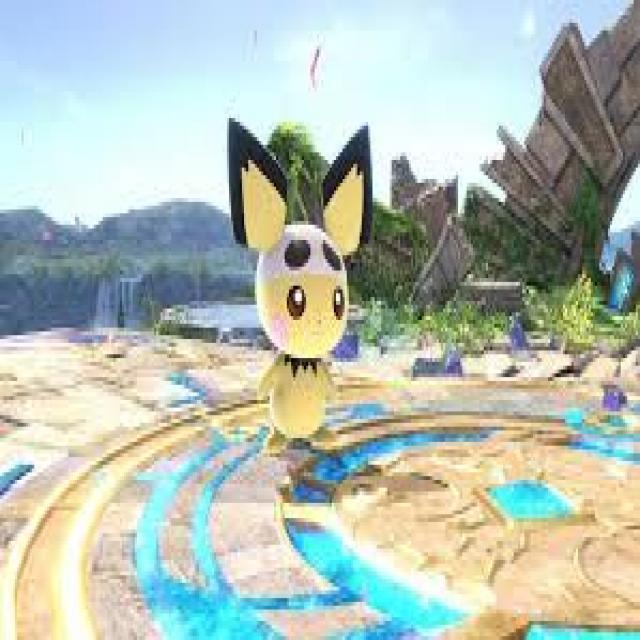pichu: (230, 124, 382, 482)
